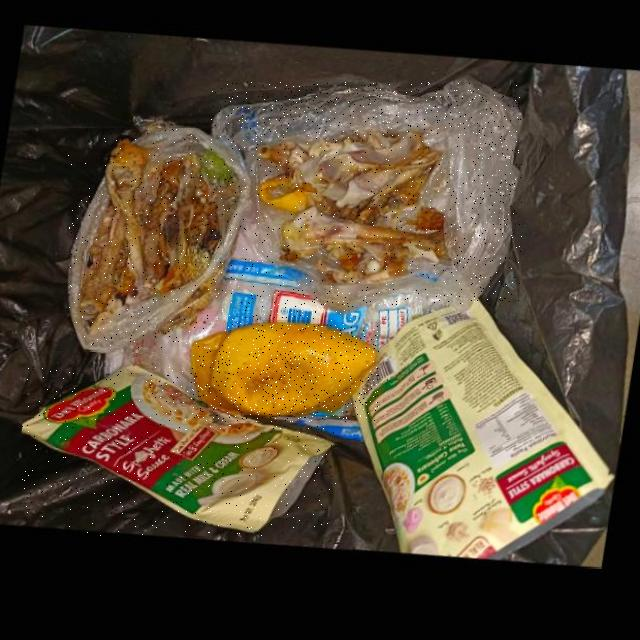biowaste: (258, 137, 451, 289), (82, 144, 221, 328), (191, 325, 379, 422)
plastic: (212, 83, 522, 321), (69, 129, 251, 351)
wrapper: (353, 306, 617, 568), (22, 367, 336, 536)
